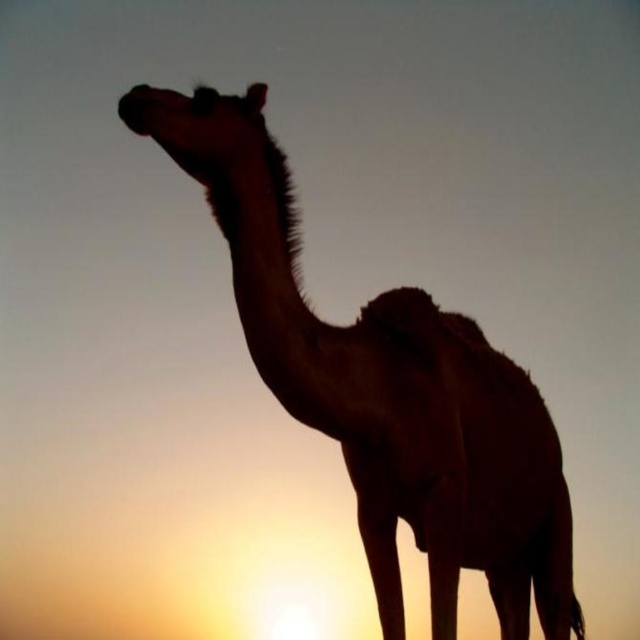Camel: (116, 74, 591, 639), (117, 83, 588, 639)
